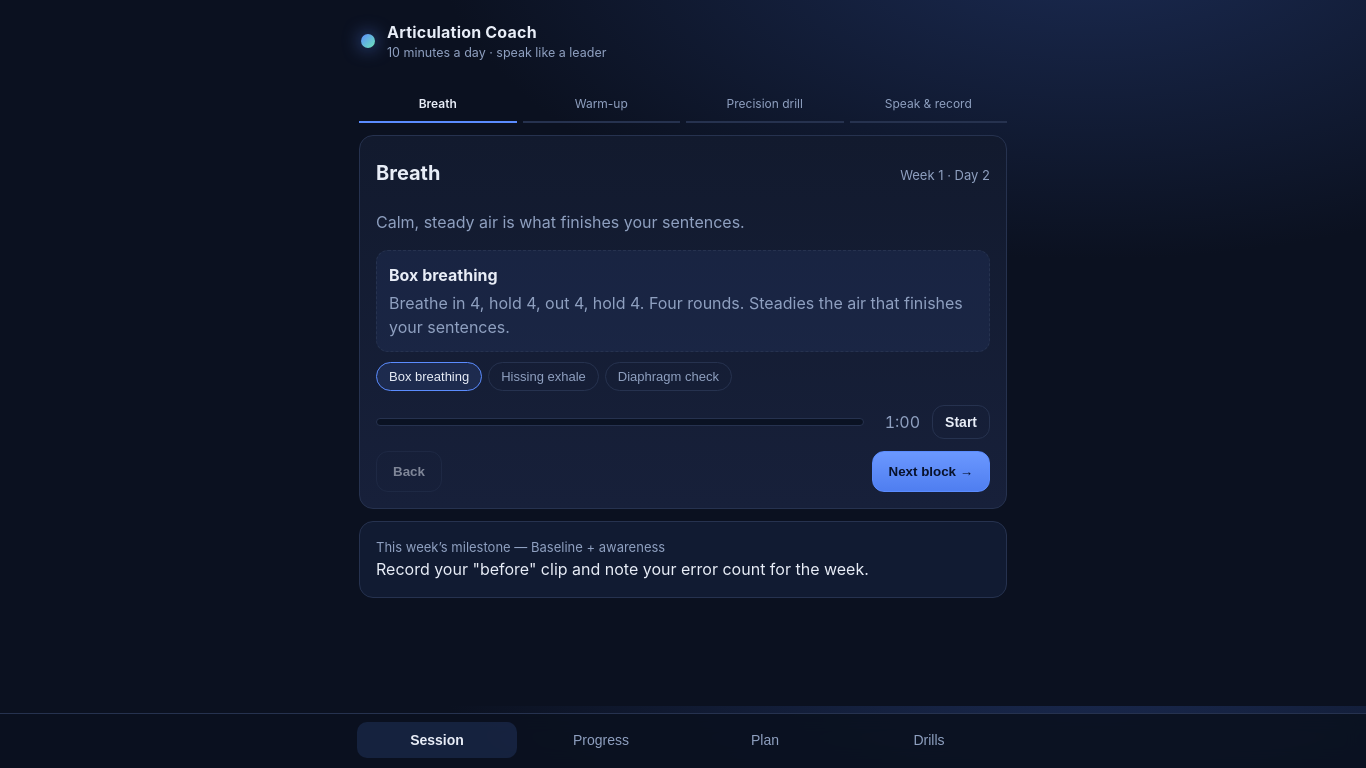
Test: Progress from saved sessions › shows average clarity and compliance for a given history
Click the button "Progress". click: (601, 740)
box: [521,722,681,758]
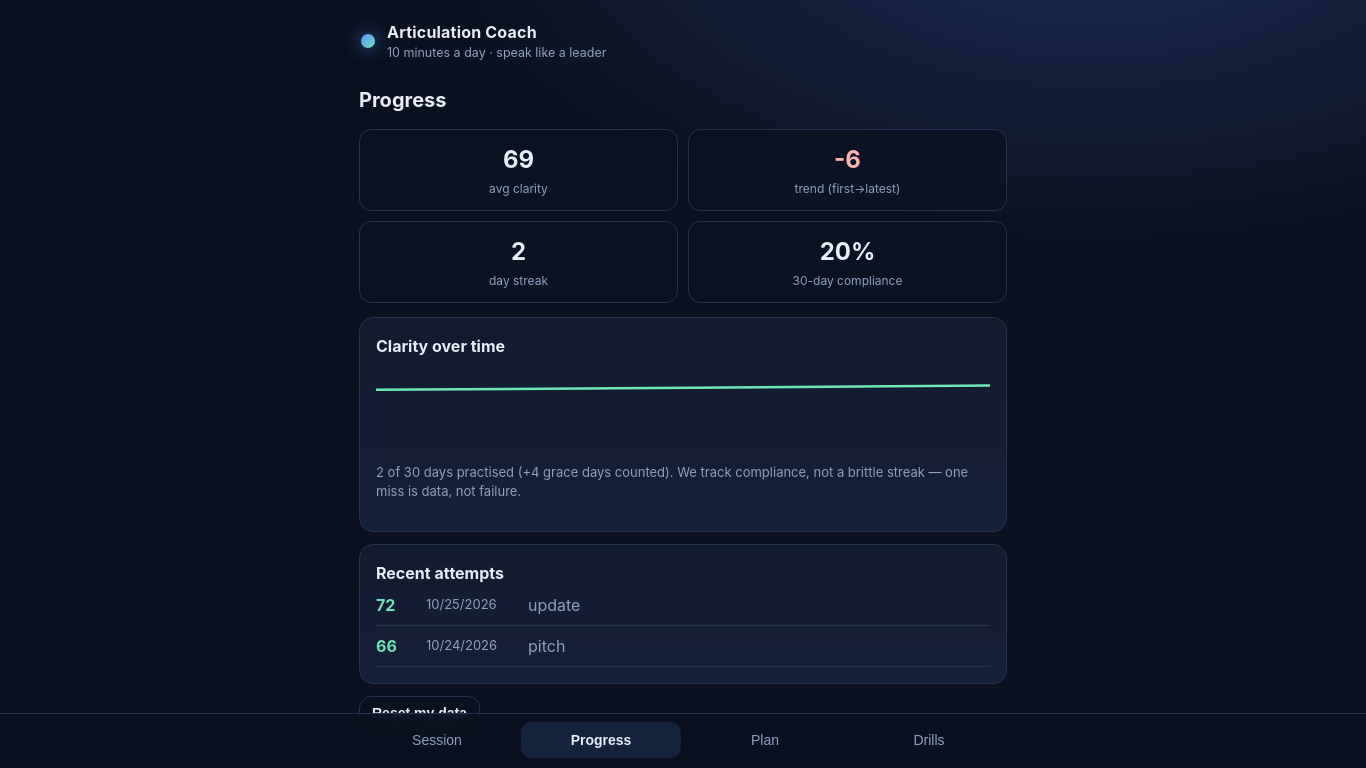
Check: the text "69" is shown, box [503,145,534,174]
Check: the text "30-day compliance" is shown, box [792,273,902,288]
Check: the text "day streak" is shown, box [489,273,548,288]
